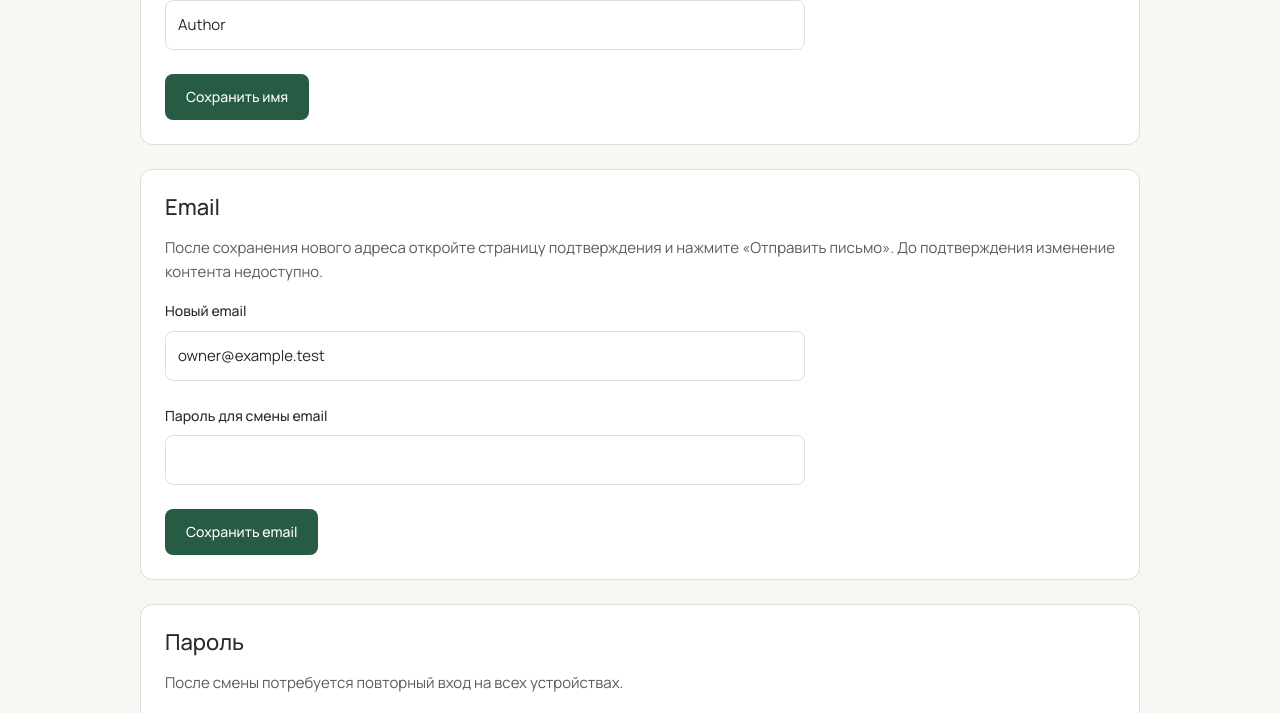
Test: показывает отказ смены email
(page scrolled)
In the password field labelled "Пароль для смены email": [485, 460] box [165,435,805,485], type "wrong"
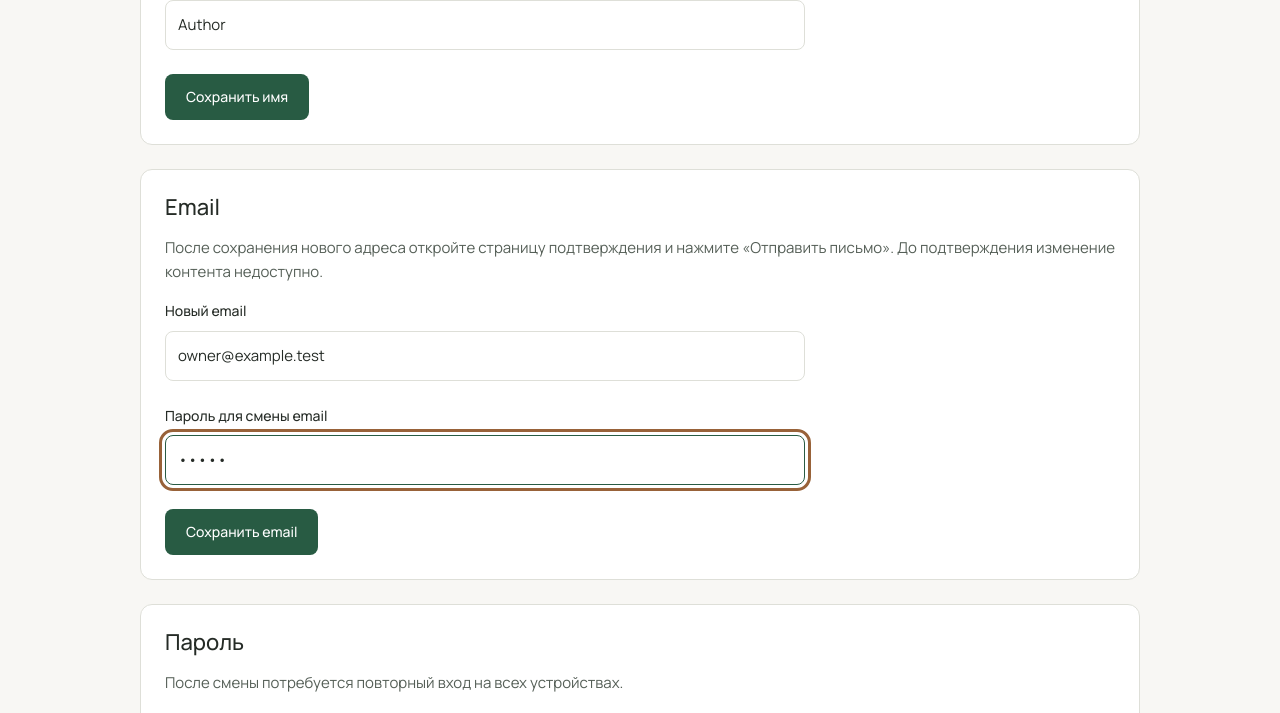
Click the button "Сохранить email": [242, 532] box [165,509,318,555]
(page scrolled)
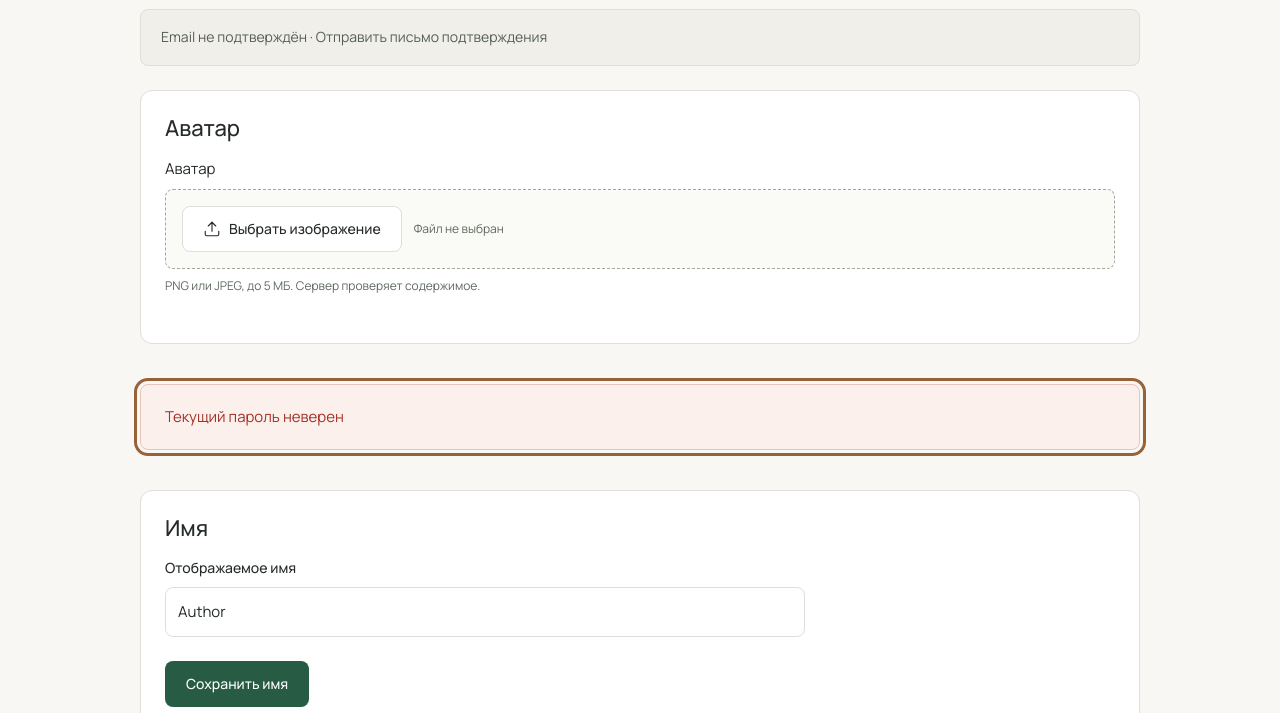
Expected: the message reads "Текущий пароль неверен", [165,406,344,426]
